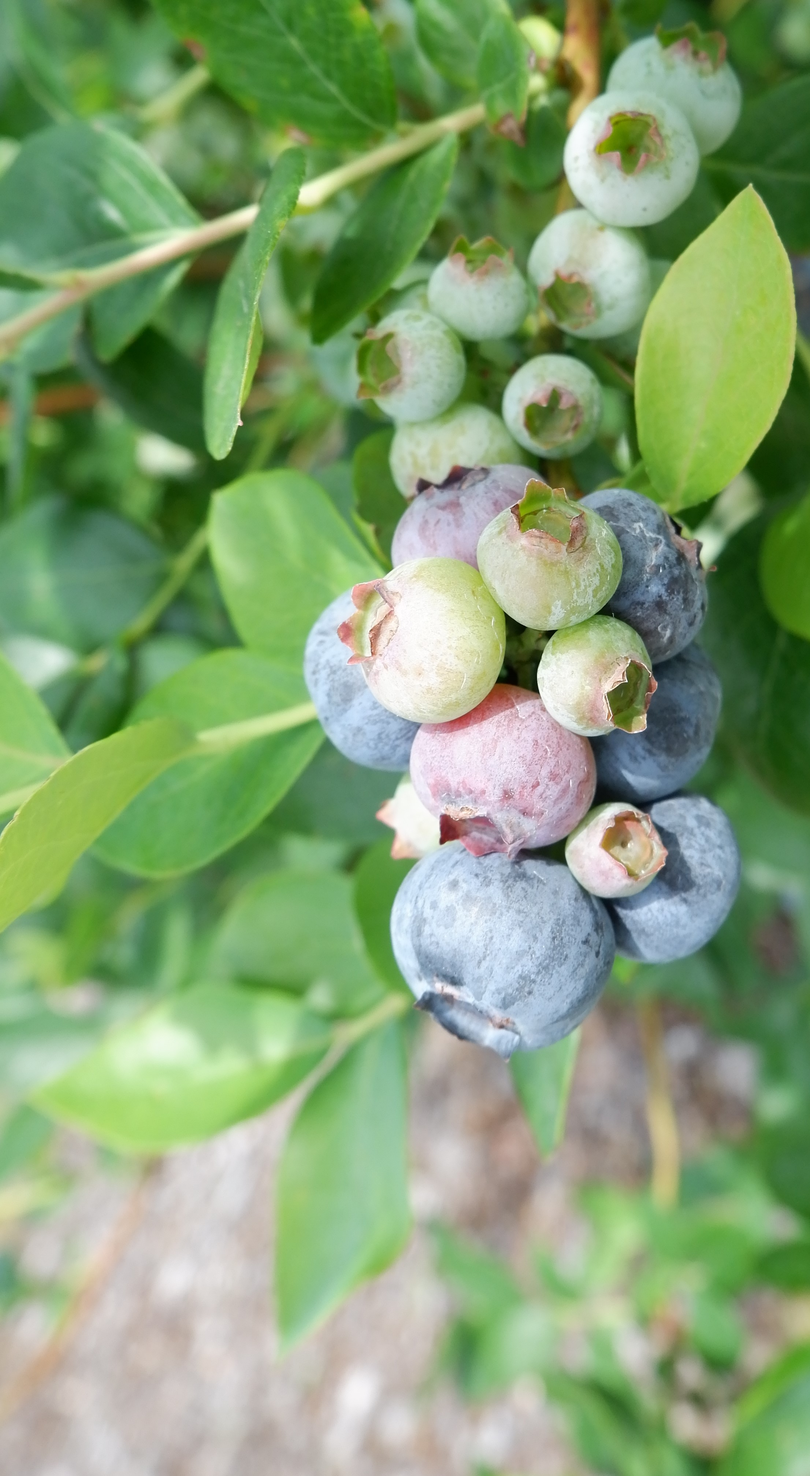Immature: (415, 688, 593, 845), (353, 559, 504, 719), (483, 493, 617, 625), (567, 95, 695, 221), (394, 462, 536, 563), (612, 36, 738, 148), (532, 211, 647, 333), (540, 615, 652, 734), (391, 400, 520, 489), (363, 309, 464, 418), (430, 238, 528, 336), (507, 355, 602, 455), (569, 805, 662, 895), (380, 777, 439, 857)
Mature: (390, 848, 608, 1052), (578, 489, 704, 659), (607, 796, 735, 959), (306, 592, 420, 768), (595, 647, 717, 804)
